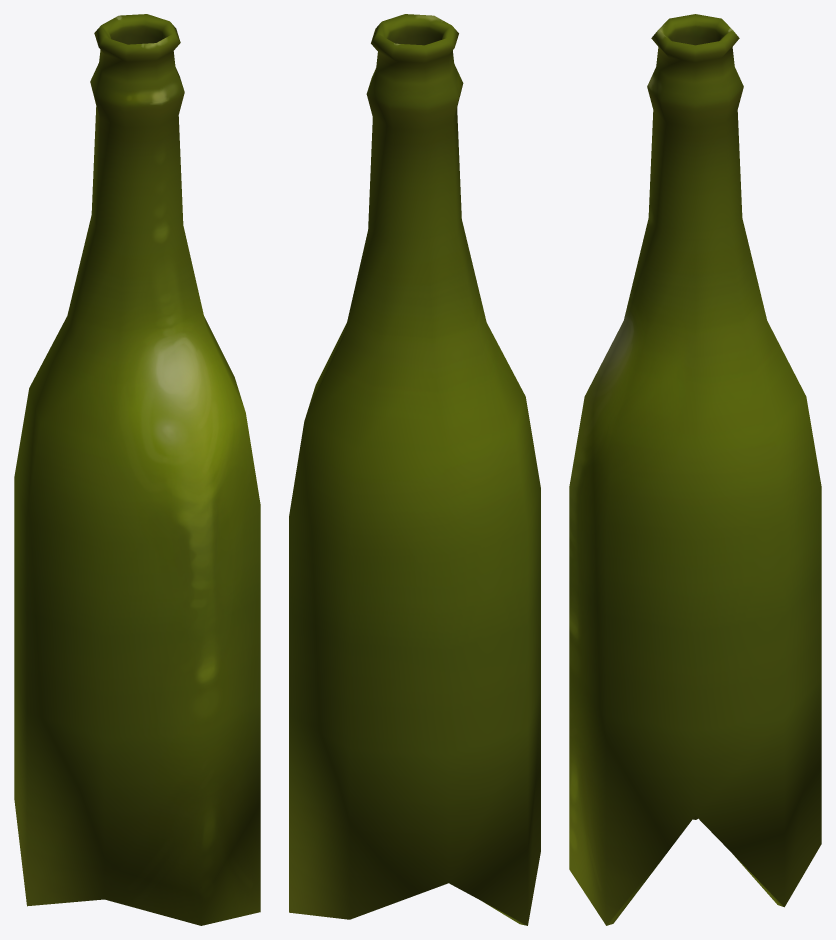
Rendered from broken bottle2.fbx.
3 renders of one model, left to right at view 1: azimuth 30°, elevation 25°; view 2: azimuth 150°, elevation 25°; view 3: azimuth 270°, elevation 25°, orthographic. The views are drawn at different scales.
Parts seen in each view (by area): view 1: Broken bottle; view 2: Broken bottle; view 3: Broken bottle.
Part boxes in pixels (x1=…): Broken bottle: x1=14, y1=14, x2=260, y2=925; Broken bottle: x1=289, y1=14, x2=540, y2=925; Broken bottle: x1=569, y1=14, x2=821, y2=925.
Bounding box in the file's own units: 200 × 751 × 200.
Materials: 1 (1 with a texture image).
